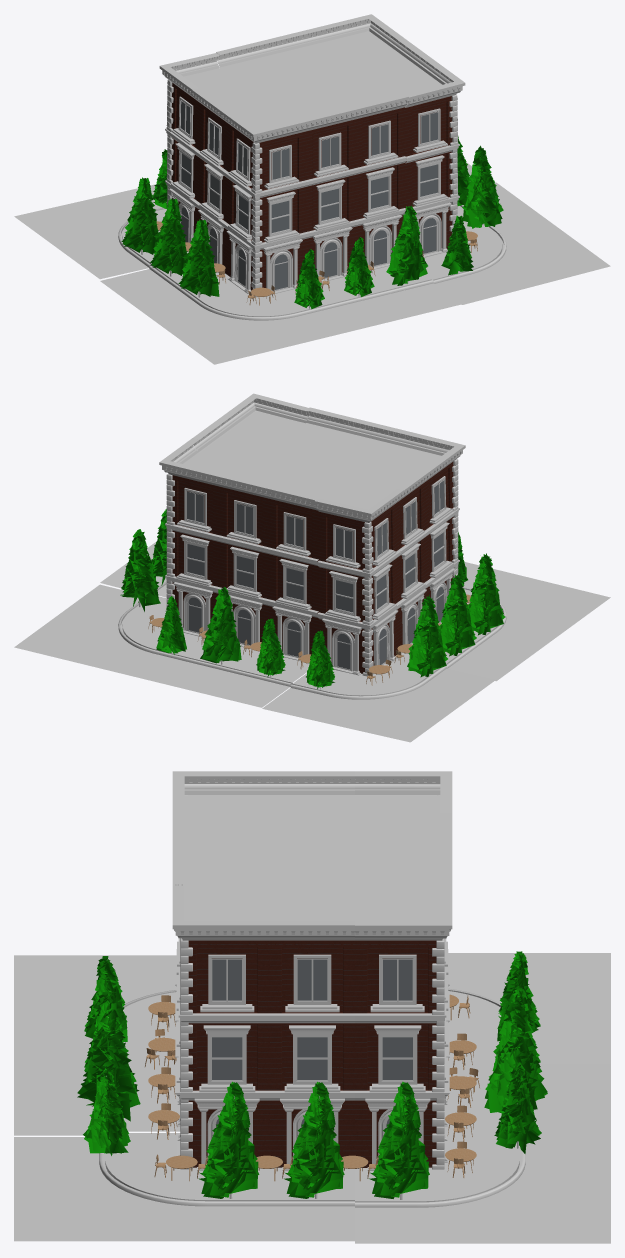
The model's file is Building_3.fbx.
3 views of the same model, one above another, from view 1: azimuth 30°, elevation 25°; view 2: azimuth 150°, elevation 25°; view 3: azimuth 270°, elevation 25° (orthographic). The views are drawn at different scales.
Parts seen in each view (by area): view 1: RoadC.009, RoadC.010, RoadC.011, W17.005, W17.003, W11.003, W11.005, W17.007, RoadM.013, W17.001, RoadM.015, W11.007 (+49 smaller); view 2: RoadC.011, RoadC.012, RoadC.009, W17.004, W17.006, W11.004, W11.006, RoadM.014, W17.008, W17.002, RoadM.016, W11.008 (+49 smaller); view 3: RoadC.012, RoadC.010, RoadC.011, RoadC.009, W17.012, W17.014, W17.010, W11.012, W11.010, W11.014, RoadM.017, Tree-5.016 (+45 smaller).
Part boxes in pixels (left/top/right/bottom): RoadC.009: left=129, top=275, right=362, bottom=364; RoadC.010: left=424, top=203, right=610, bottom=304; RoadC.011: left=14, top=184, right=188, bottom=279; W17.005: left=355, top=107, right=404, bottom=167; W17.003: left=306, top=119, right=355, bottom=179; W11.003: left=306, top=175, right=355, bottom=231; W11.005: left=355, top=163, right=404, bottom=219; W17.007: left=405, top=96, right=452, bottom=156; RoadM.013: left=320, top=276, right=412, bottom=328; W17.001: left=259, top=131, right=305, bottom=190; RoadM.015: left=370, top=266, right=461, bottom=316; W11.007: left=405, top=151, right=452, bottom=208; RoadC.011: left=262, top=655, right=495, bottom=742; RoadC.012: left=14, top=584, right=204, bottom=683; RoadC.009: left=462, top=562, right=610, bottom=660; W17.004: left=269, top=499, right=318, bottom=561; W17.006: left=220, top=487, right=269, bottom=547; W11.004: left=269, top=554, right=318, bottom=613; W11.006: left=220, top=542, right=269, bottom=599; RoadM.014: left=212, top=657, right=309, bottom=707; W17.008: left=172, top=475, right=219, bottom=535; W17.002: left=319, top=512, right=364, bottom=570; RoadM.016: left=163, top=646, right=259, bottom=695; W11.008: left=172, top=531, right=219, bottom=587; RoadC.012: left=355, top=1131, right=610, bottom=1243; RoadC.010: left=14, top=1133, right=269, bottom=1241; RoadC.011: left=448, top=953, right=610, bottom=1063; RoadC.009: left=14, top=955, right=176, bottom=1063; W17.012: left=270, top=940, right=354, bottom=1013; W17.014: left=355, top=940, right=436, bottom=1013; W17.010: left=188, top=940, right=269, bottom=1013; W11.012: left=270, top=1023, right=354, bottom=1092; W11.010: left=188, top=1023, right=269, bottom=1092; W11.014: left=355, top=1023, right=436, bottom=1092; RoadM.017: left=270, top=1167, right=354, bottom=1241; Tree-5.016: left=198, top=1081, right=259, bottom=1198.
Bounding box in the file's own units: 1600 × 654 × 1400.
